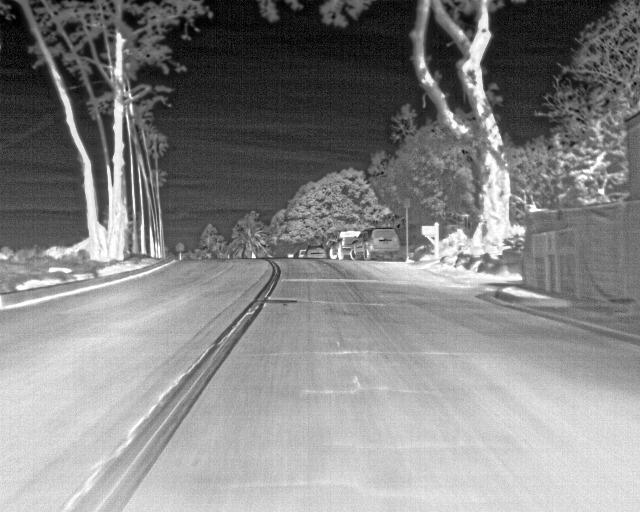car: (350, 226, 400, 260), (328, 229, 363, 260), (306, 244, 328, 260), (294, 248, 307, 259)
